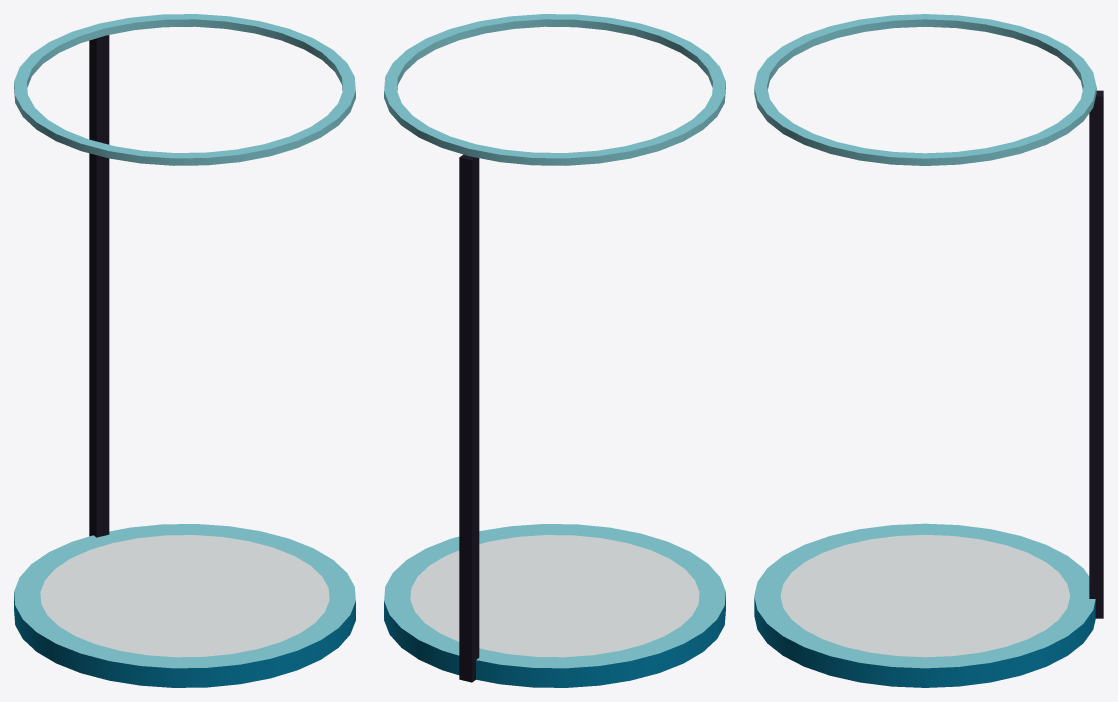
The model's file is catch_base.fbx.
3 renders of one model, left to right at view 1: azimuth 30°, elevation 25°; view 2: azimuth 150°, elevation 25°; view 3: azimuth 270°, elevation 25°, orthographic.
Visible parts, largest first — view 1: catch_base; view 2: catch_base; view 3: catch_base.
Boxes of the visible parts, x1=… form: catch_base: x1=14, y1=14, x2=355, y2=687; catch_base: x1=384, y1=14, x2=725, y2=687; catch_base: x1=754, y1=14, x2=1103, y2=687.
Bounding box in the file's own units: 0.6042 × 1.03 × 0.6171.
Materials: 1 (1 with a texture image).
